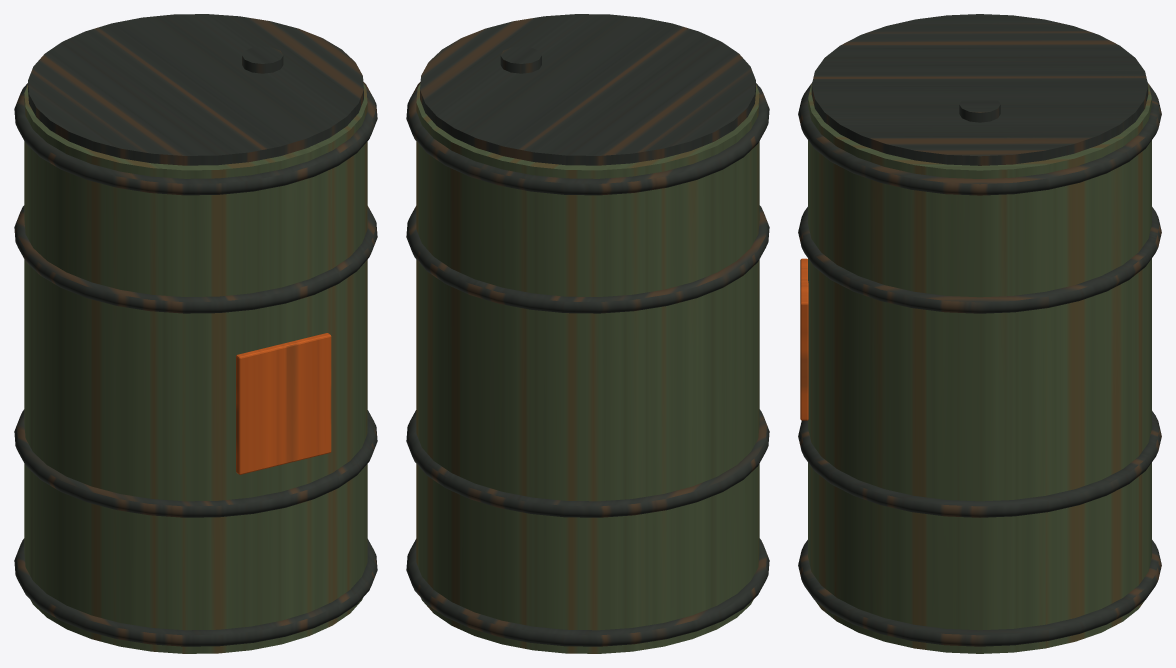
File: barrel.obj
3 renders of one model, left to right at view 1: azimuth 30°, elevation 25°; view 2: azimuth 150°, elevation 25°; view 3: azimuth 270°, elevation 25°, orthographic.
Visible parts, largest first — view 1: barrel; view 2: barrel; view 3: barrel.
Part boxes in pixels (x1,y1,x2,y2): barrel: (14,14,377,653); barrel: (406,14,769,653); barrel: (798,14,1161,653).
Bounding box in the file's own units: 0.614 × 0.949 × 0.614.
Materials: 1 (1 with a texture image).
